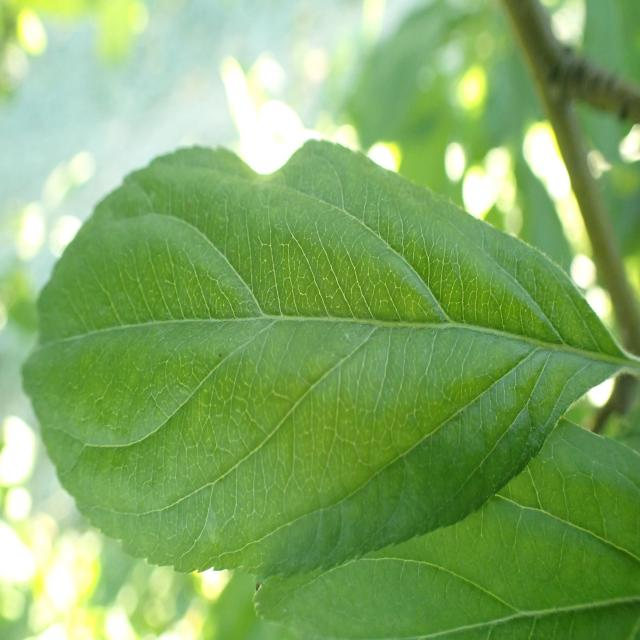healthy: (24, 137, 637, 582), (252, 416, 640, 640)
